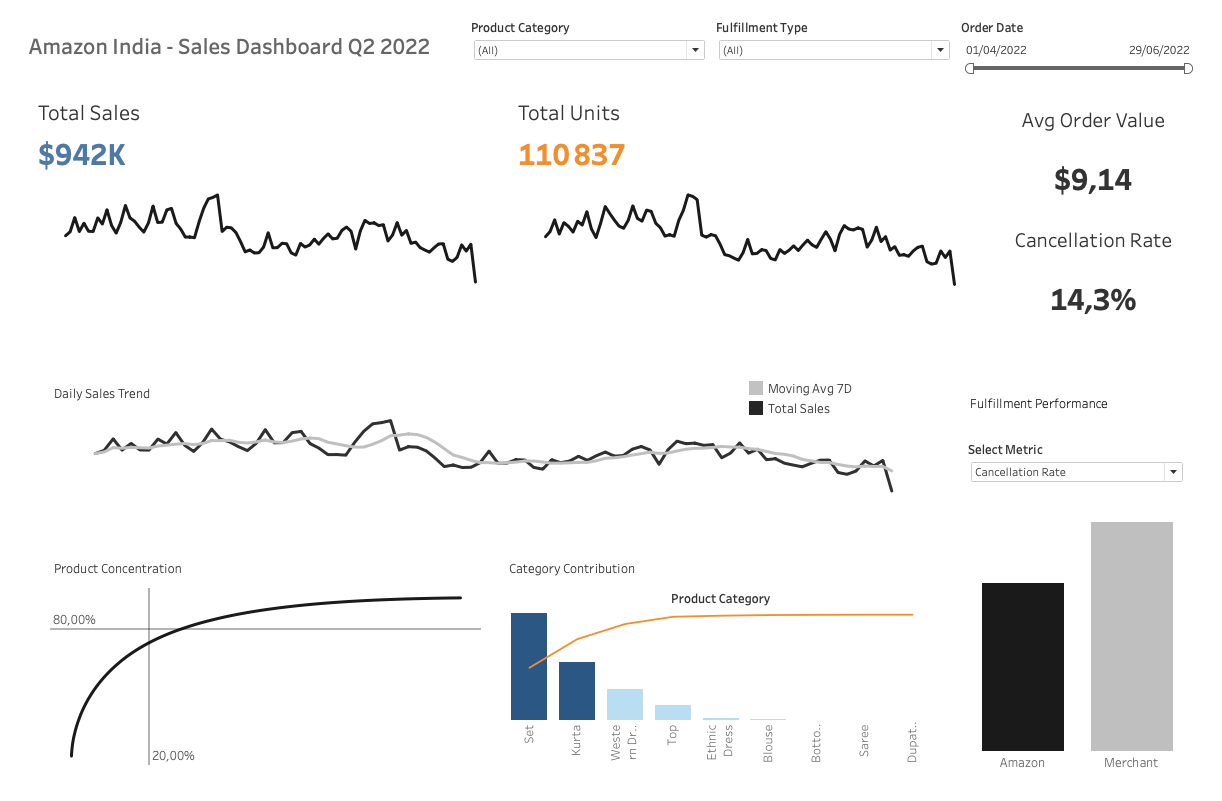

Layout of this report page (visuals, bound fields, positions):
{"tool":"tableau","page":{"name":"Amazon_Sales_Dashboard","canvas":[1200,800],"ordinal":0},"visuals":[{"type":"text","box":[8,8,1184,73]},{"type":"filter","title":"KPI Total Sales","param":"[federated.05s2klu0u9znai1cz5or91u4fmdq].[none:product_category:nk]","box":[453,14,245,67]},{"type":"filter","title":"Daily Sales Trend","param":"[federated.05s2klu0u9znai1cz5or91u4fmdq].[none:fulfillment_type:nk]","box":[698,14,245,67]},{"type":"filter","title":"Daily Sales Trend","param":"[federated.05s2klu0u9znai1cz5or91u4fmdq].[none:order_date:qk]","box":[943,14,244,67]},{"type":"worksheet","title":"Header - Total Sales","mark":"Automatic","box":[16,89,480,84]},{"type":"worksheet","title":"Header - Total Quantity","mark":"Automatic","box":[496,89,479,84]},{"type":"worksheet","title":"KPI AOV","mark":"Automatic","box":[983,97,193,120]},{"type":"worksheet","title":"KPI Total Sales","mark":"Line","rows":["Calculation_5344445637181465"],"cols":["order_date"],"box":[16,173,480,171]},{"type":"worksheet","title":"KPI Total Quantity","mark":"Line","rows":["Calculation_5344445682540576"],"cols":["order_date"],"box":[496,173,479,171]},{"type":"worksheet","title":"KPI Cancellation Rate","mark":"Automatic","box":[983,217,193,119]},{"type":"worksheet","title":"Daily Sales Trend","mark":"Automatic","rows":["Calculation_5344445637181465","Calculation_5344445609574403"],"cols":["order_date"],"box":[24,368,910,175]},{"type":"text","box":[950,368,226,68]},{"type":"legend","title":"Daily Sales Trend","param":"[federated.05s2klu0u9znai1cz5or91u4fmdq].[:Measure Names]","box":[732,377,140,40]},{"type":"parameter","param":"[Parameters].[Parameter 2]","box":[950,436,226,70]},{"type":"worksheet","title":"Fulfillment Performance","mark":"Bar","rows":["Calculation_5344445637414938"],"cols":["fulfillment_type"],"box":[950,506,226,270]},{"type":"worksheet","title":"Product Concentration","mark":"Line","box":[24,543,455,233]},{"type":"worksheet","title":"Category Contribution","mark":"Automatic","rows":["Calculation_5344445637181465"],"cols":["product_category"],"box":[479,543,455,233]}]}

Visuals, with their boxes in screenshot pixels (x1, y1, x2, y2), scaled from the page's 1200x800 canvas onto the 1222x801 screenshot:
text: left=8, top=8, right=1214, bottom=81
"KPI Total Sales" filter: left=461, top=14, right=711, bottom=81
"Daily Sales Trend" filter: left=711, top=14, right=960, bottom=81
"Daily Sales Trend" filter: left=960, top=14, right=1209, bottom=81
"Header - Total Sales" worksheet: left=16, top=89, right=505, bottom=173
"Header - Total Quantity" worksheet: left=505, top=89, right=993, bottom=173
"KPI AOV" worksheet: left=1001, top=97, right=1198, bottom=217
"KPI Total Sales" worksheet (Line marks): left=16, top=173, right=505, bottom=344
"KPI Total Quantity" worksheet (Line marks): left=505, top=173, right=993, bottom=344
"KPI Cancellation Rate" worksheet: left=1001, top=217, right=1198, bottom=336
"Daily Sales Trend" worksheet: left=24, top=368, right=951, bottom=544
text: left=967, top=368, right=1198, bottom=437
"Daily Sales Trend" legend: left=745, top=377, right=888, bottom=418
parameter: left=967, top=437, right=1198, bottom=507
"Fulfillment Performance" worksheet (Bar marks): left=967, top=507, right=1198, bottom=777
"Product Concentration" worksheet (Line marks): left=24, top=544, right=488, bottom=777
"Category Contribution" worksheet: left=488, top=544, right=951, bottom=777
